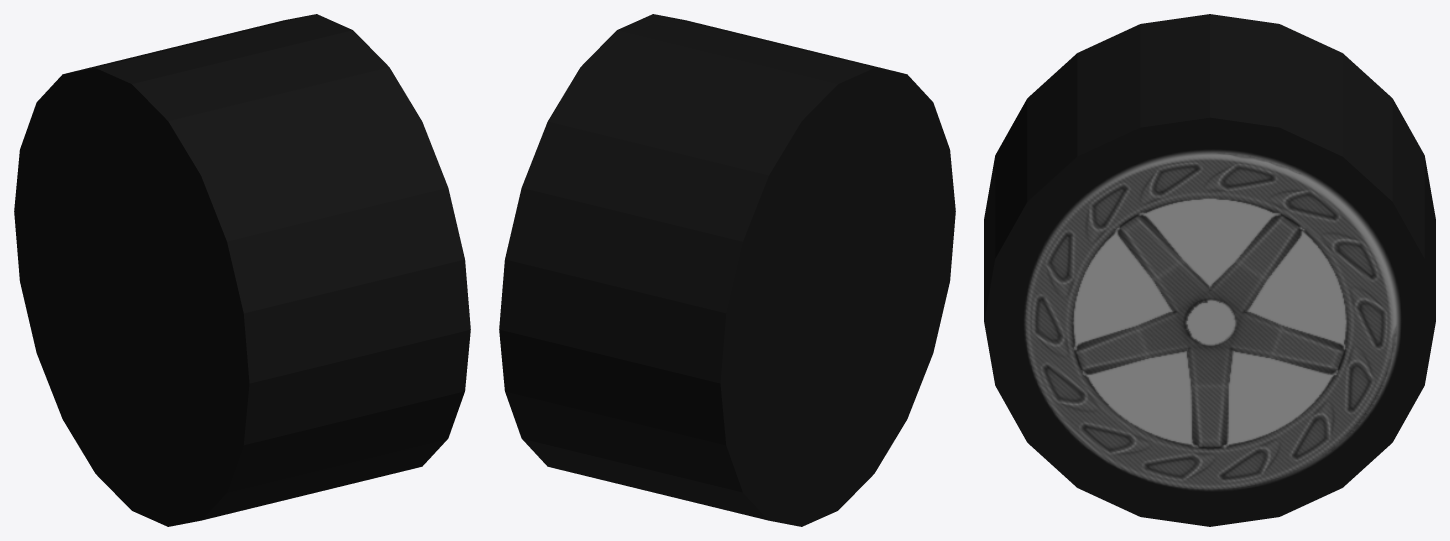
File: car_43_death.FBX
3 renders of one model, left to right at view 1: azimuth 30°, elevation 25°; view 2: azimuth 150°, elevation 25°; view 3: azimuth 270°, elevation 25°, orthographic. The views are drawn at different scales.
Parts seen in each view (by area): view 1: wheel_back_L; view 2: wheel_back_L; view 3: wheel_back_L.
Boxes of the visible parts, left/top/right/bottom form: wheel_back_L: left=14, top=14, right=470, bottom=526; wheel_back_L: left=499, top=14, right=955, bottom=526; wheel_back_L: left=984, top=14, right=1435, bottom=526.
Size of what is drawn, in the model's own units: 2.4 by 4.41 by 4.41.
1 material, 1 textured.
